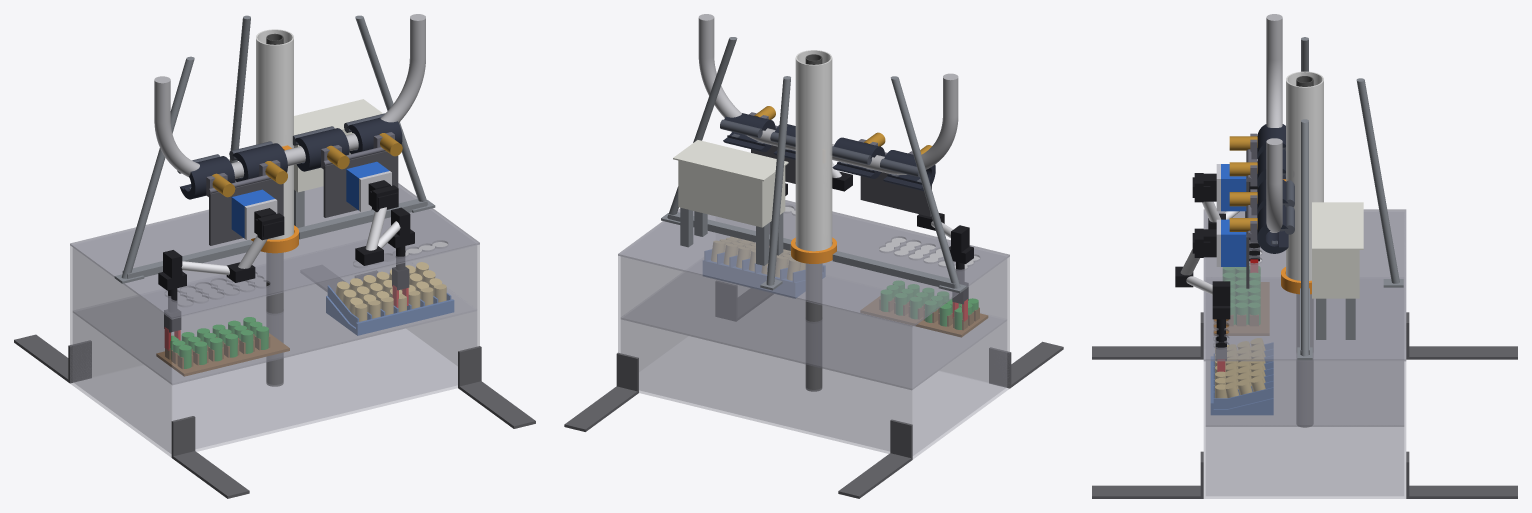
Rendered from pond-unit-bottom.glb.
3 renders of one model, left to right at view 1: azimuth 30°, elevation 25°; view 2: azimuth 150°, elevation 25°; view 3: azimuth 270°, elevation 25°, orthographic. The views are drawn at different scales.
Parts seen in each view (by area): view 1: tank, shelf, lid_with_pick_holes, feet, growing_pipe, a_frame_legs, track, dry_pods, lid_plates, seedling_pods, water_station, gravity_pod_store (+18 smaller); view 2: tank, shelf, lid_with_pick_holes, growing_pipe, feet, water_station, a_frame_legs, track, lid_plates, spine, seedling_pods, gravity_pod_store (+10 smaller); view 3: tank, shelf, lid_with_pick_holes, feet, growing_pipe, water_station, a_frame_legs, track, dry_pods, gravity_pod_store, cart_store_front_arm_servos, spine (+13 smaller).
Part boxes in pixels (x1,y1,x2,y2): tank: [70, 186, 479, 457]; shelf: [73, 240, 476, 384]; lid_with_pick_holes: [70, 183, 479, 319]; feet: [14, 271, 535, 498]; growing_pipe: [256, 29, 293, 239]; a_frame_legs: [121, 15, 428, 278]; track: [154, 14, 425, 178]; dry_pods: [336, 262, 446, 321]; lid_plates: [114, 199, 435, 283]; seedling_pods: [170, 317, 268, 368]; water_station: [294, 99, 382, 192]; gravity_pod_store: [326, 285, 454, 335]; tank: [618, 202, 1009, 458]; shelf: [621, 258, 1006, 389]; lid_with_pick_holes: [618, 200, 1009, 327]; growing_pipe: [795, 50, 832, 251]; feet: [564, 281, 1063, 498]; water_station: [673, 140, 788, 227]; a_frame_legs: [667, 37, 960, 288]; track: [698, 14, 958, 174]; lid_plates: [661, 212, 966, 293]; spine: [805, 54, 822, 391]; seedling_pods: [881, 281, 978, 329]; gravity_pod_store: [703, 249, 825, 298]; tank: [1204, 212, 1405, 498]; shelf: [1206, 277, 1403, 426]; lid_with_pick_holes: [1203, 209, 1406, 361]; feet: [1092, 312, 1517, 498]; growing_pipe: [1286, 71, 1323, 280]; water_station: [1312, 202, 1363, 298]; a_frame_legs: [1301, 37, 1399, 356]; track: [1266, 14, 1282, 232]; dry_pods: [1215, 338, 1265, 398]; gravity_pod_store: [1210, 342, 1273, 415]; cart_store_front_arm_servos: [1175, 228, 1230, 319]; spine: [1296, 76, 1313, 427].
Size of the model in its own units: 710 by 750 by 840.
